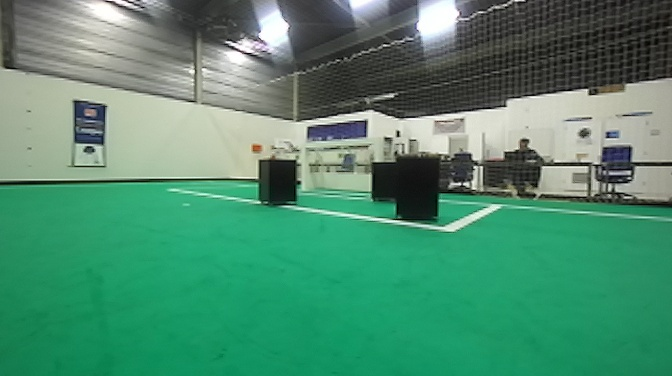goalpost: (298, 146, 309, 191), (368, 139, 385, 161)
